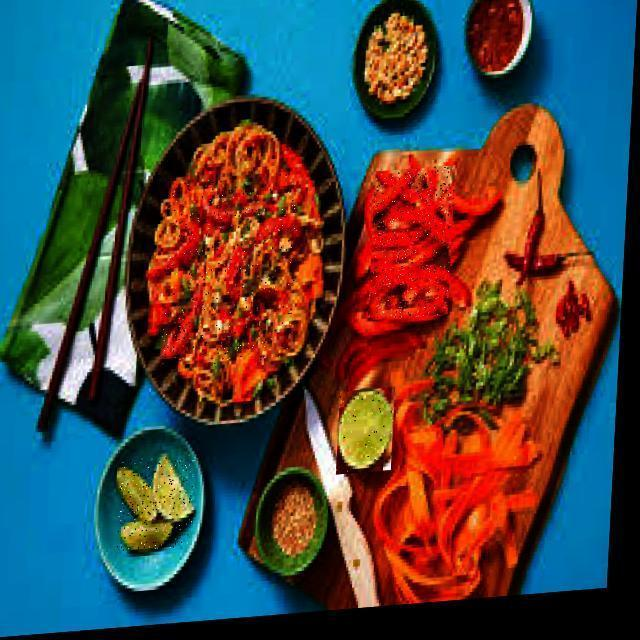cardboard: (239, 101, 618, 609)
cups: (252, 465, 329, 580), (464, 0, 533, 77)
